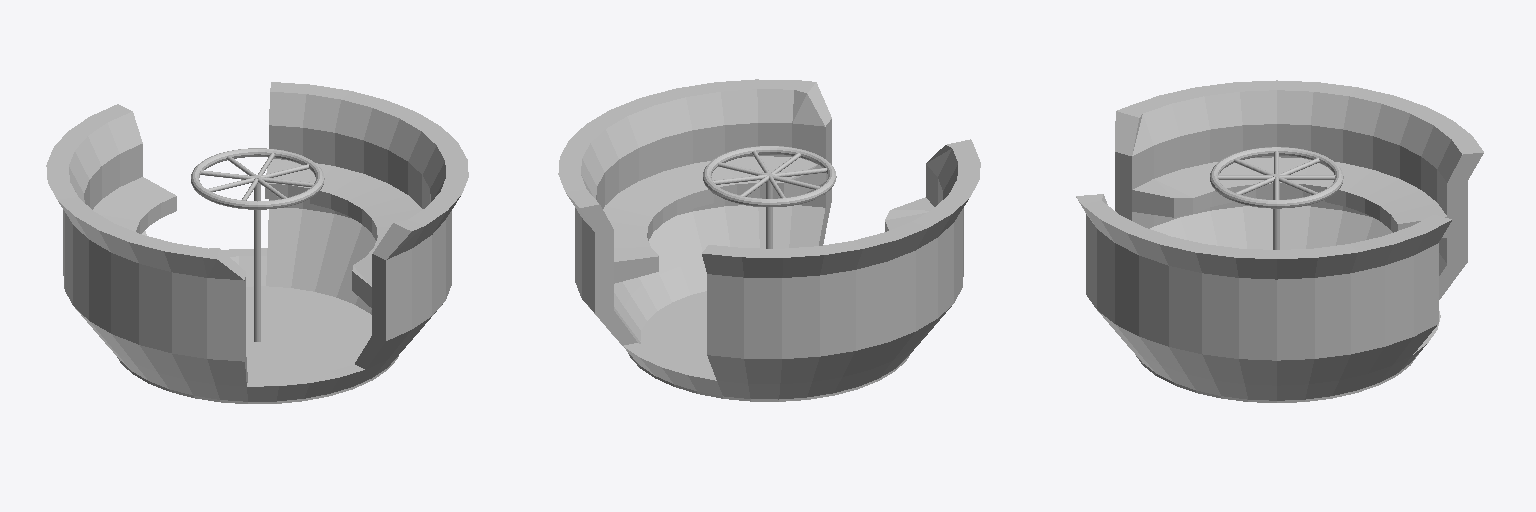
File: tazaJP.obj
3 renders of one model, left to right at view 1: azimuth 30°, elevation 25°; view 2: azimuth 150°, elevation 25°; view 3: azimuth 270°, elevation 25°, orthographic.
Parts seen in each view (by area): view 1: Circle, Torus, Cylinder; view 2: Circle, Torus; view 3: Circle, Torus.
Boxes of the visible parts, box(x1,y1,x2,y2) form: Circle: box(46, 82, 468, 403); Torus: box(191, 148, 324, 209); Cylinder: box(254, 175, 260, 341); Circle: box(558, 79, 980, 401); Torus: box(703, 146, 836, 206); Circle: box(1076, 80, 1483, 402); Torus: box(1210, 147, 1343, 208).
Size of the model in its own units: 3.27 by 1.47 by 3.16.